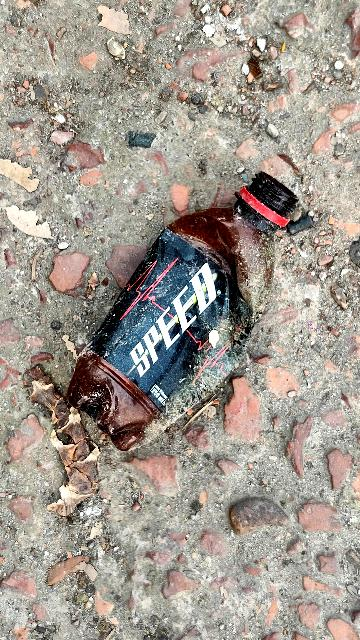bottle: (38, 155, 320, 465)
